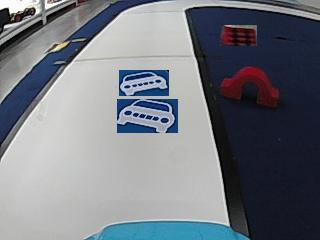bridge: (221, 65, 278, 106)
